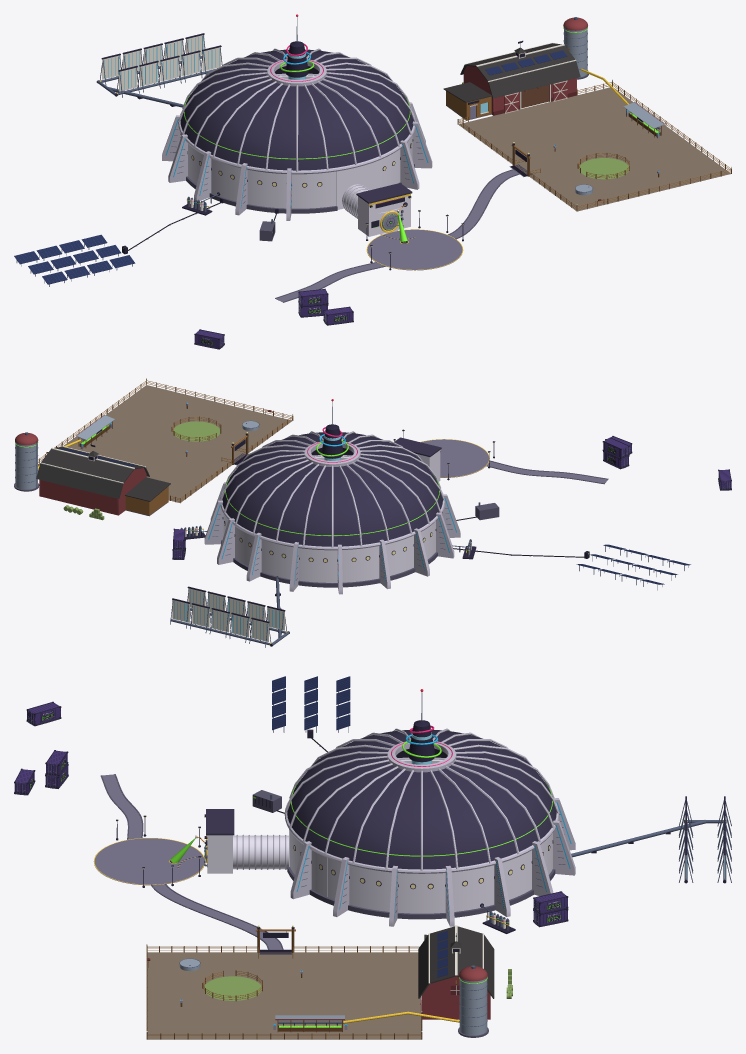
File: zlab.glb
The picture shows the model from 3 angles, top to bottom: view 1: azimuth 30°, elevation 25°; view 2: azimuth 150°, elevation 25°; view 3: azimuth 270°, elevation 25°; orthographic projection. The views are drawn at different scales.
Parts seen in each view (by area): view 1: lab_roof_roof_i70, A_ranch_dirt, lab_wall, lab_roof_wall2_i30, outside_path, lab_wall2, outside_white_i40, A_barn_roof2_i60, outside_solar_i20, A_ranch_wood, outside_steel, lab_wall_i60 (+15 smaller); view 2: lab_roof_roof_i70, A_ranch_dirt, lab_wall, lab_wall2, lab_roof_wall2_i30, outside_white_i40, A_barn_roof2_i60, outside_path, A_barn_barn, A_ranch_wood, A_ranch_corr, outside_steel (+12 smaller); view 3: lab_roof_roof_i70, A_ranch_dirt, lab_wall, lab_roof_wall2_i30, outside_path, lab_wall2, A_barn_roof2_i60, A_ranch_wood, outside_steel, outside_solar_i20, A_ranch_corr, lab_wall_i60 (+10 smaller).
Boxes of the visible parts, x1,y1,x2,y2 form: lab_roof_roof_i70: (180, 49, 413, 170); A_ranch_dirt: (458, 87, 730, 211); lab_wall: (181, 75, 412, 236); lab_roof_wall2_i30: (178, 48, 415, 171); outside_path: (276, 170, 518, 302); lab_wall2: (162, 102, 432, 220); outside_white_i40: (102, 35, 220, 91); A_barn_roof2_i60: (460, 43, 580, 98); outside_solar_i20: (14, 234, 135, 284); A_ranch_wood: (458, 82, 730, 209); outside_steel: (16, 35, 222, 286); lab_wall_i60: (336, 163, 402, 234); lab_roof_roof_i70: (222, 432, 442, 546); A_ranch_dirt: (38, 385, 292, 502); lab_wall: (223, 450, 442, 582); lab_wall2: (204, 482, 460, 594); lab_roof_wall2_i30: (220, 431, 444, 547); outside_white_i40: (172, 588, 284, 641); A_barn_roof2_i60: (36, 446, 149, 498); outside_path: (421, 439, 607, 483); A_barn_barn: (39, 468, 146, 515); A_ranch_wood: (38, 380, 292, 501); A_ranch_corr: (15, 415, 259, 489); outside_steel: (170, 525, 688, 647); lab_roof_roof_i70: (287, 729, 556, 869); A_ranch_dirt: (147, 952, 421, 1039); lab_wall: (207, 759, 552, 913); lab_roof_wall2_i30: (284, 728, 559, 870); outside_path: (94, 774, 282, 949); lab_wall2: (290, 798, 575, 926); A_barn_roof2_i60: (418, 926, 494, 998); A_ranch_wood: (147, 929, 421, 1037); outside_steel: (273, 688, 731, 927); outside_solar_i20: (272, 676, 350, 730); A_ranch_corr: (179, 959, 487, 1035); lab_wall_i60: (233, 829, 289, 869).
Size of the model in its own units: 196 by 46.08 by 167.
